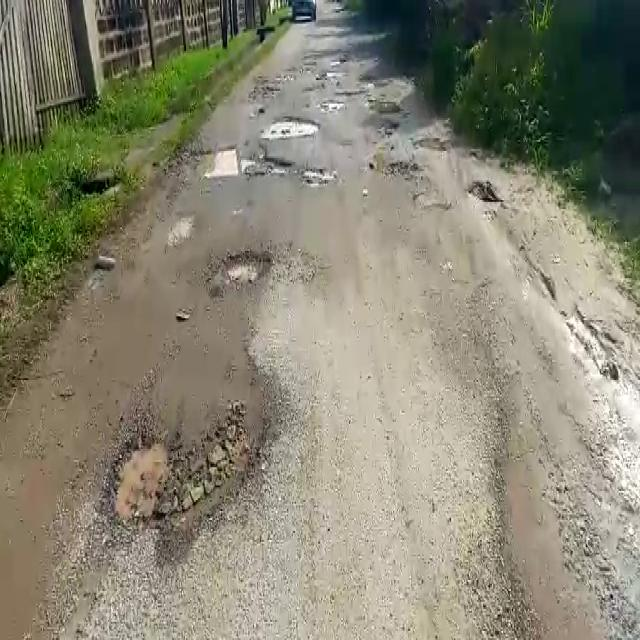Pothole: (100, 405, 283, 547), (198, 144, 298, 179), (208, 245, 274, 294), (259, 114, 320, 138), (299, 168, 335, 186)
